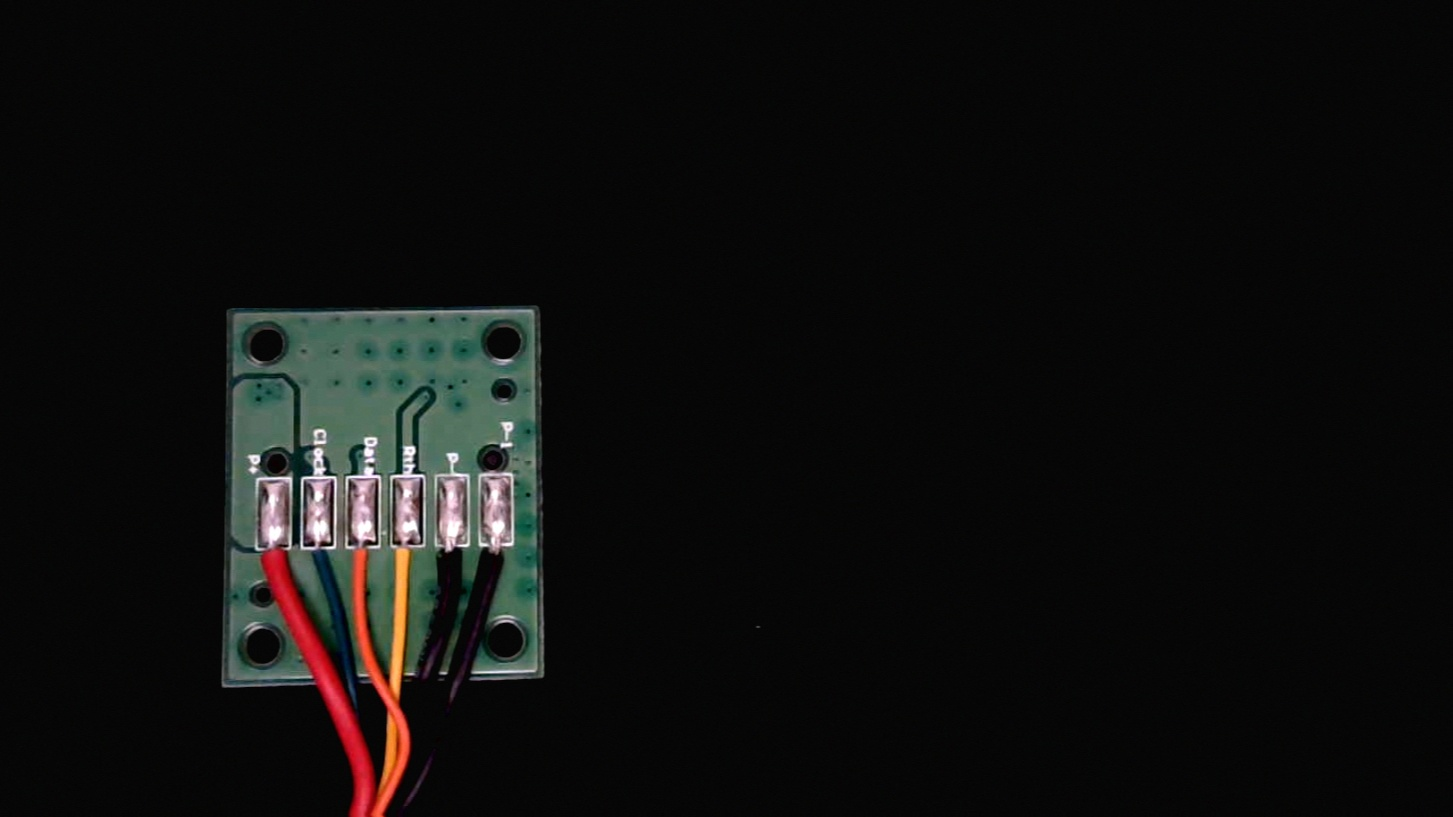Black: (437, 526, 472, 609)
Black1: (482, 530, 517, 600)
Green: (301, 529, 334, 597)
Orange: (348, 526, 381, 601)
Red: (256, 527, 292, 605)
Yellow: (394, 526, 426, 611)
